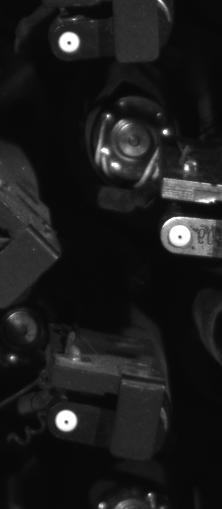fiber: (53, 25, 89, 59), (49, 403, 81, 437), (166, 222, 197, 252)
